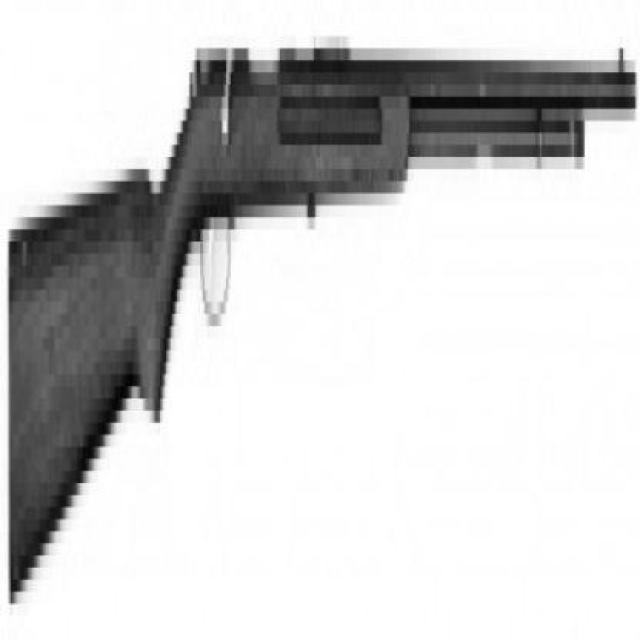weapon: (9, 37, 637, 608)
